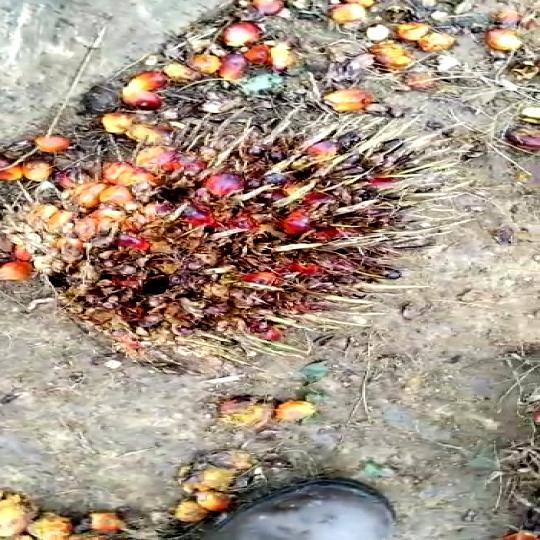terlalu masak: (0, 103, 488, 353)
